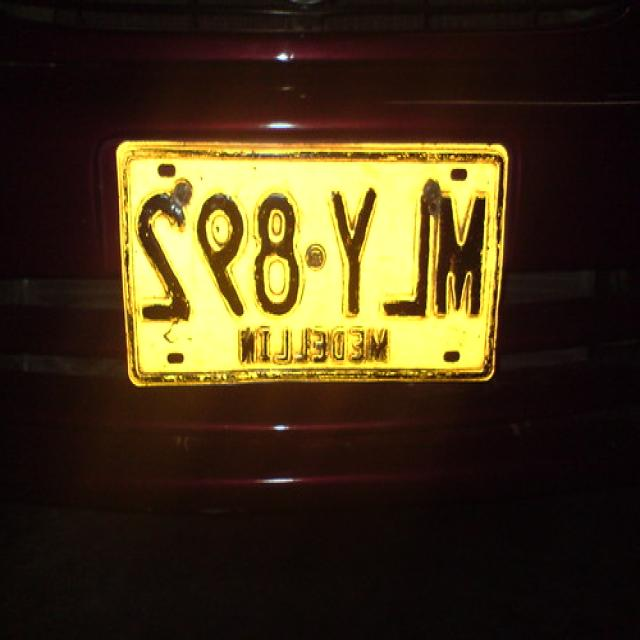placas: (126, 179, 494, 333)
